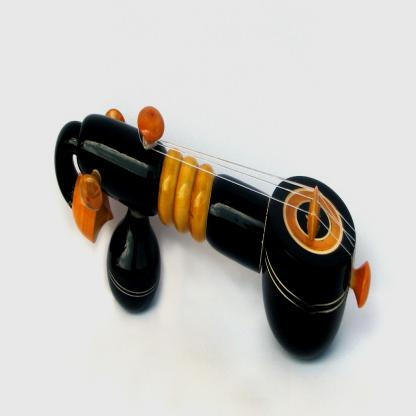Veena: (136, 122, 364, 320)
